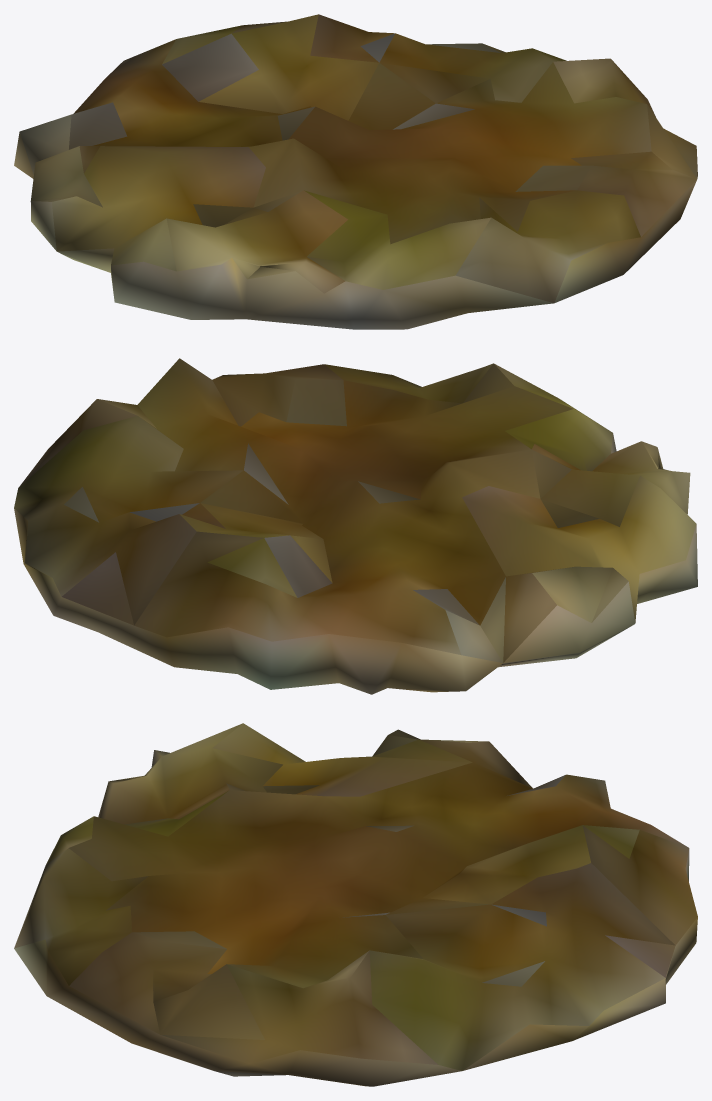
Rendered from sauce-relish.glb.
3 views of the same model, one above another, from view 1: azimuth 30°, elevation 25°; view 2: azimuth 150°, elevation 25°; view 3: azimuth 270°, elevation 25° (orthographic). The views are drawn at different scales.
Parts seen in each view (by area): view 1: sauce-relish; view 2: sauce-relish; view 3: sauce-relish.
Boxes of the visible parts, x1,y1,x2,y2 form: sauce-relish: (14, 14, 697, 329); sauce-relish: (14, 358, 697, 694); sauce-relish: (14, 723, 697, 1086).
Size of the model in its own units: 8.45 by 1.56 by 8.05.
3 materials, 2 textured.
